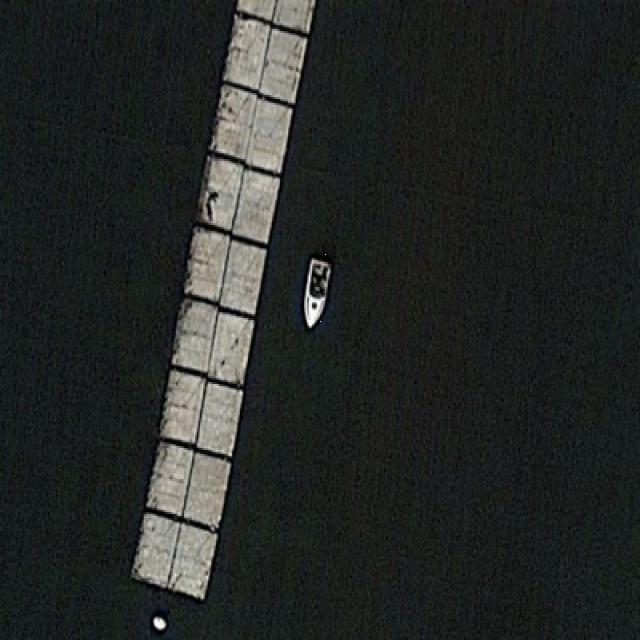boat: (301, 254, 334, 330)
